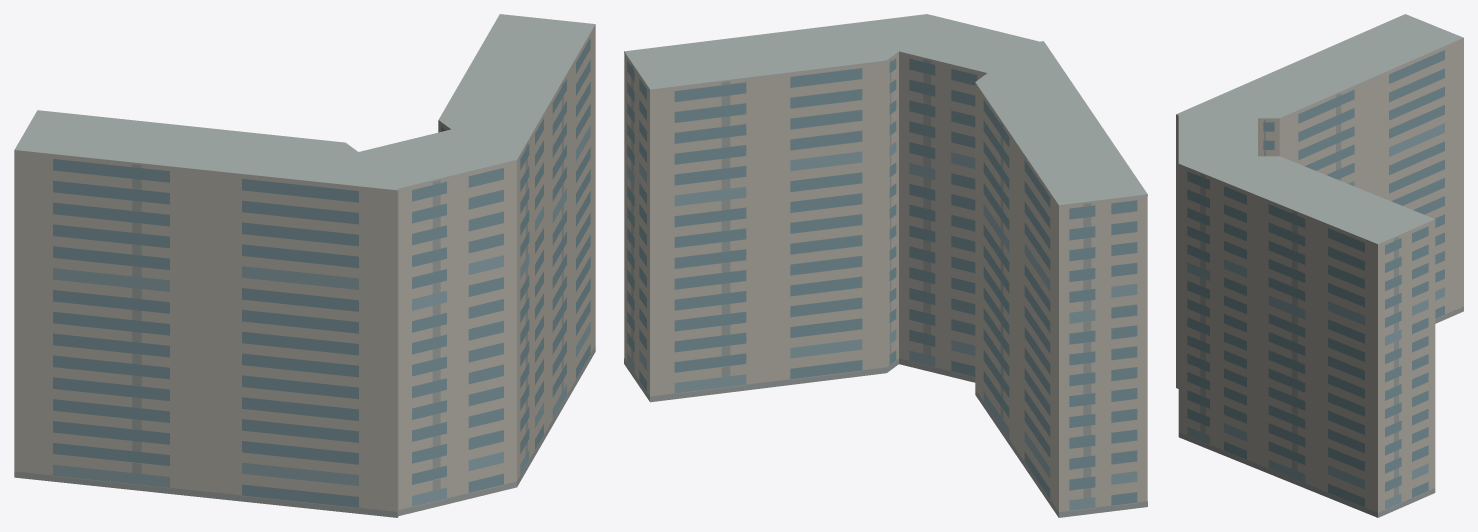
Rendered from residential-fa3ff2b3-7da9-4503-8f24-2b25b6b4a771.glb.
3 views of the same model, side by side, from view 1: azimuth 30°, elevation 25°; view 2: azimuth 150°, elevation 25°; view 3: azimuth 270°, elevation 25° (orthographic). The views are drawn at different scales.
Parts seen in each view (by area): view 1: residential-fa3ff2b3-7da9-4503-8f24-2b25b6b4a771.tmp; view 2: residential-fa3ff2b3-7da9-4503-8f24-2b25b6b4a771.tmp; view 3: residential-fa3ff2b3-7da9-4503-8f24-2b25b6b4a771.tmp.
Part boxes in pixels (x1=…): residential-fa3ff2b3-7da9-4503-8f24-2b25b6b4a771.tmp: x1=14, y1=14, x2=595, y2=517; residential-fa3ff2b3-7da9-4503-8f24-2b25b6b4a771.tmp: x1=624, y1=14, x2=1147, y2=517; residential-fa3ff2b3-7da9-4503-8f24-2b25b6b4a771.tmp: x1=1176, y1=14, x2=1463, y2=517.
Size of the model in its own units: 82.56 by 45.75 by 43.61.
